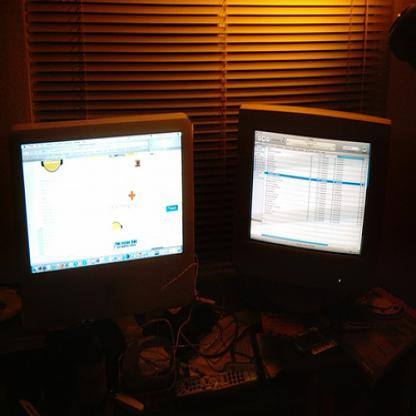tvmonitor: (9, 111, 198, 345), (230, 102, 392, 314)
